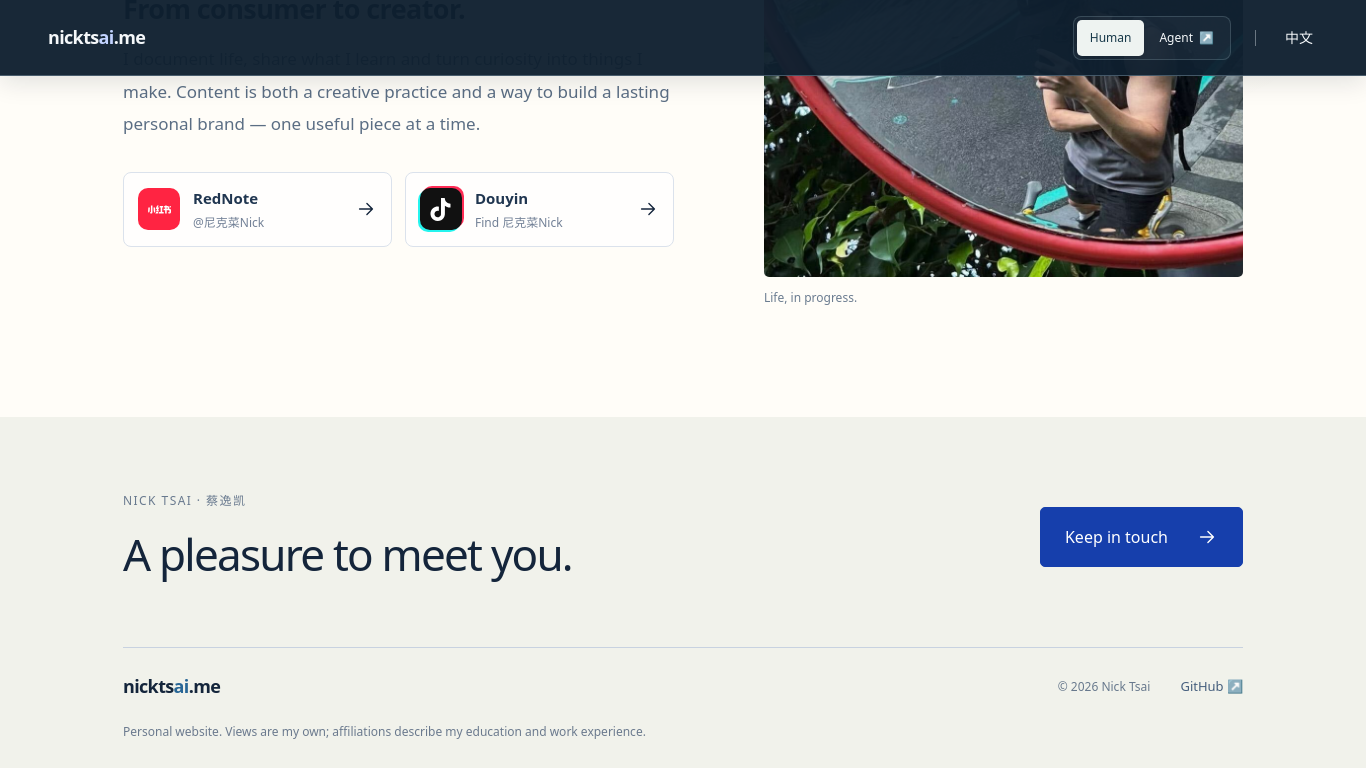
Test: Business card website › opens and closes the contact dialog with public business contacts
This screenshot has width=1366, height=768.
(page scrolled)
Click the button "Keep in touch" at (1142, 537), box 1040,507 -> 1243,567
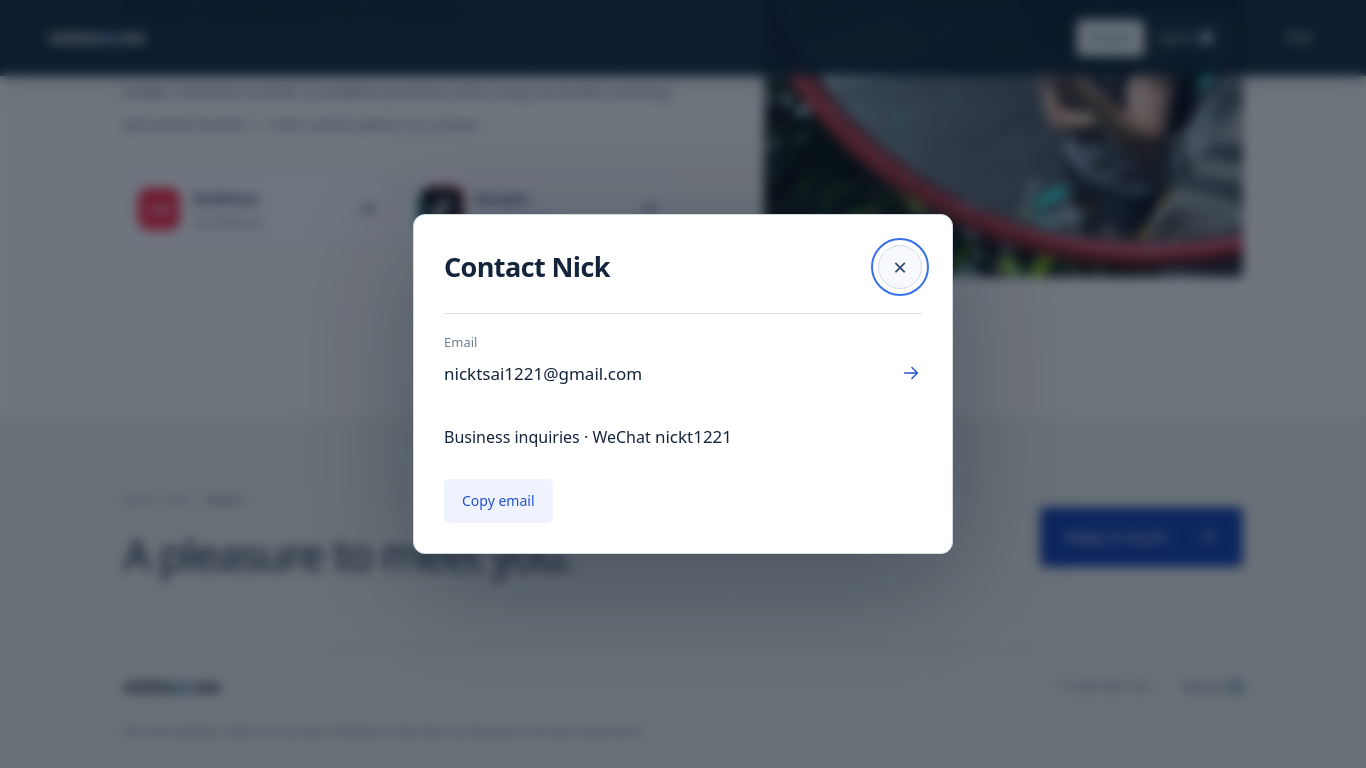
Expected: the text "nickt1221" is shown, 655,425 -> 732,448
Click the button named "Close" at (900, 267), box 878,245 -> 922,289
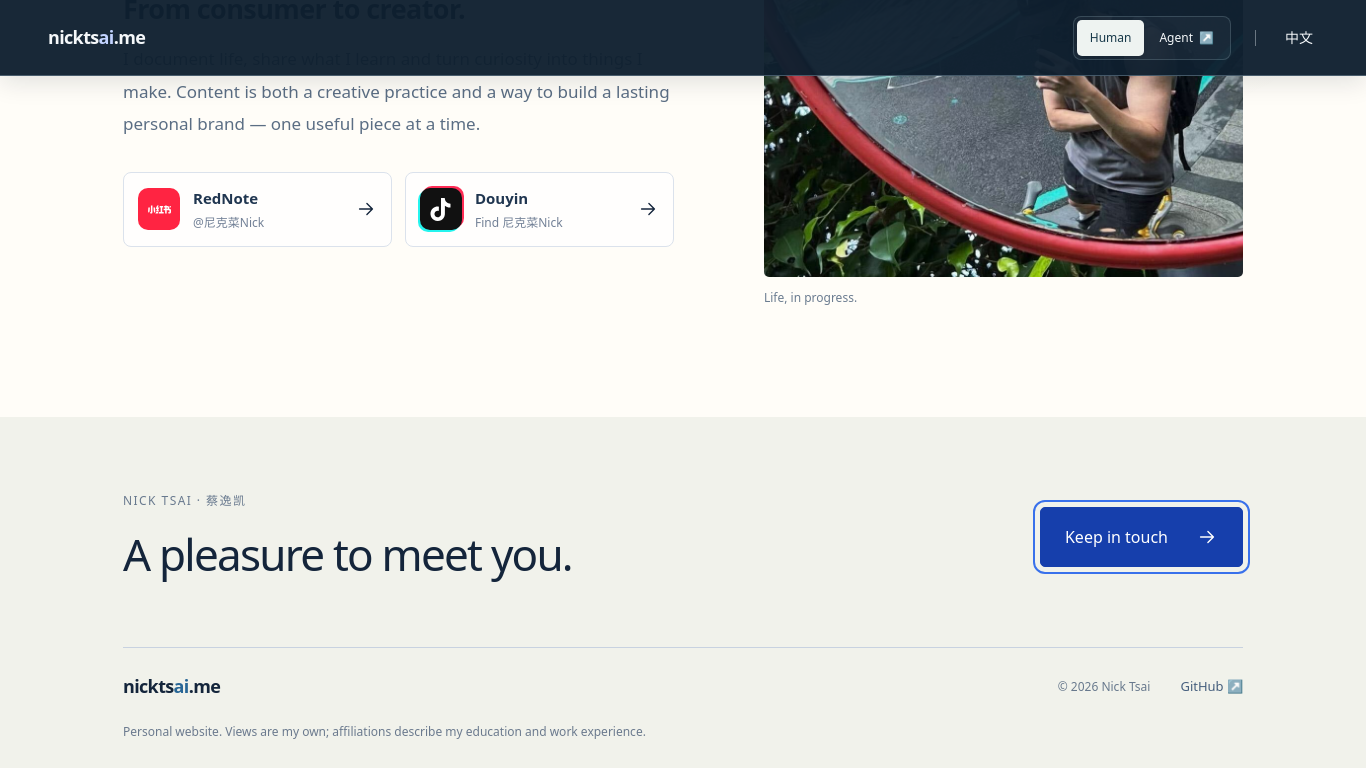
Expected: the dialog is gone
